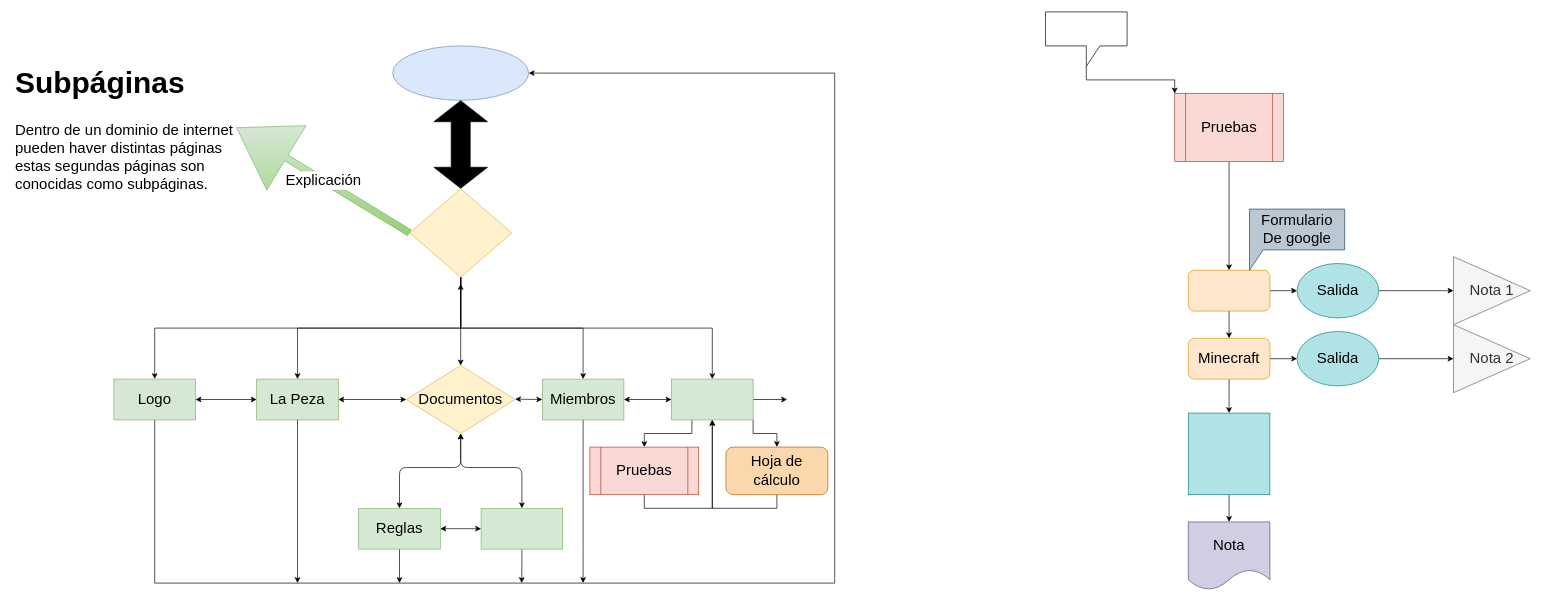
Image size: 1542x602. Some labels were removed from this diagram. The shapes that lost their labels are listed below. From the top down, each one's box as (x1, y1, x2, y2) in pixels, then its label:
(1045, 11, 1127, 66): Proceso de Admisión no programado en la página web
(392, 45, 529, 100): PÁGINA PRINCIPAL
(409, 188, 512, 277): Subpágina
(1188, 270, 1270, 311): Pokemon
(671, 378, 753, 420): Pruebas de Acceso
(1188, 412, 1270, 495): Nota = (Nota 1 + Nota 2)/2
(480, 508, 563, 549): Derechos
